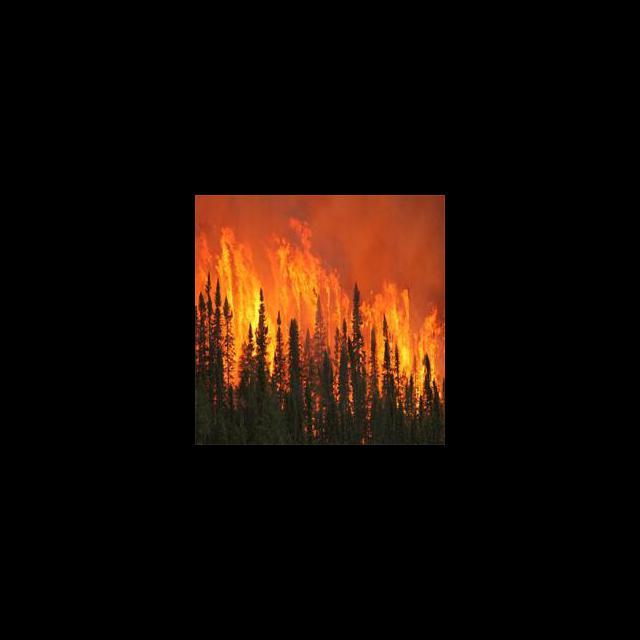Fire: (196, 216, 445, 396)
